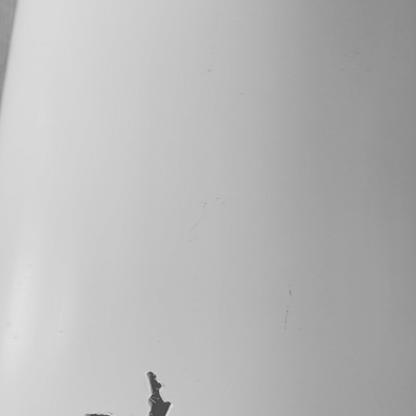kongdong: (141, 368, 173, 416)
